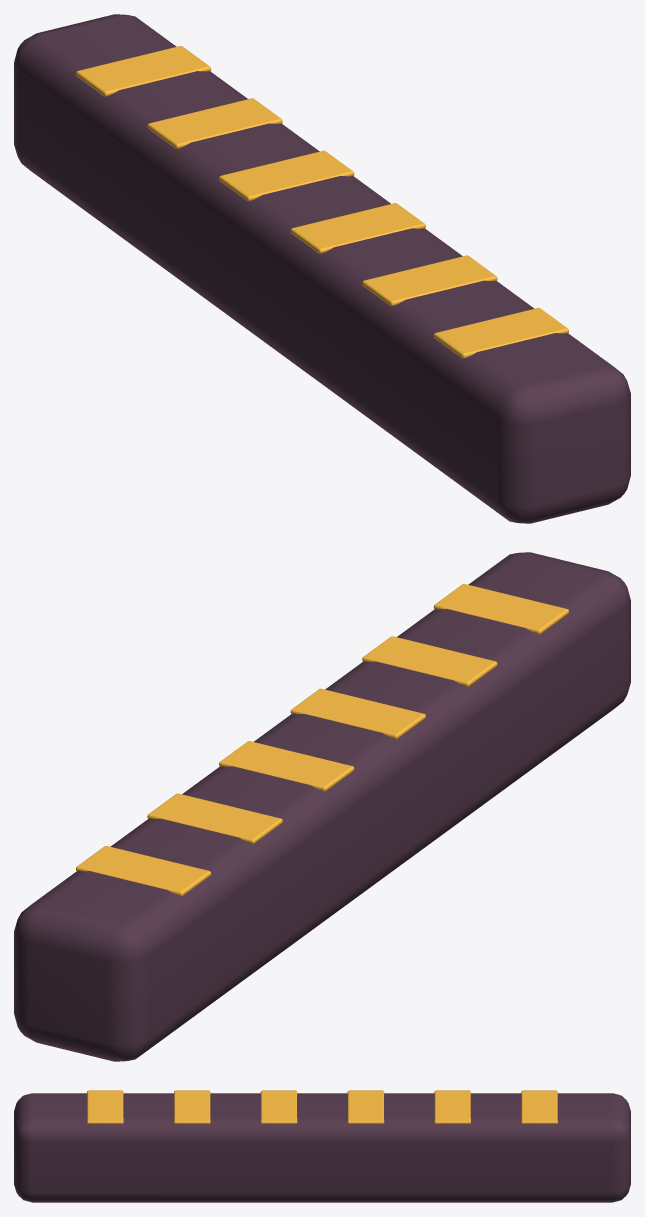
Rendered from lava-sweeper-v1.glb.
The picture shows the model from 3 angles, top to bottom: view 1: azimuth 30°, elevation 25°; view 2: azimuth 150°, elevation 25°; view 3: azimuth 270°, elevation 25°; orthographic projection. The views are drawn at different scales.
Parts seen in each view (by area): view 1: lava-sweeper-v1.001; view 2: lava-sweeper-v1.001; view 3: lava-sweeper-v1.001.
Boxes of the visible parts, <box> form: lava-sweeper-v1.001: <box>14,14,630,523</box>; lava-sweeper-v1.001: <box>14,552,630,1061</box>; lava-sweeper-v1.001: <box>14,1090,630,1202</box>.
Size of the model in its own units: 0.8 by 0.806 by 5.4.
